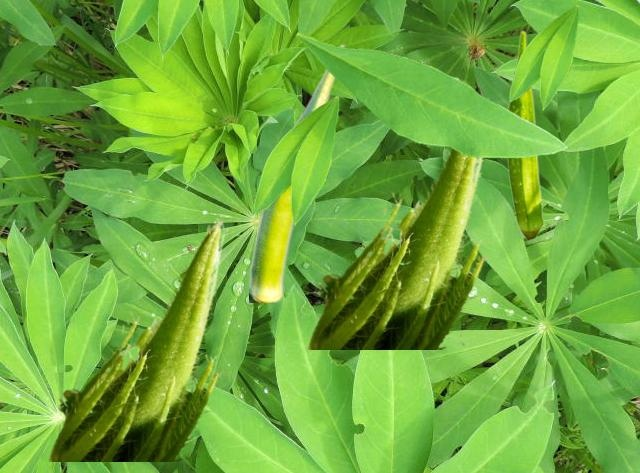okra: (305, 95, 494, 348), (46, 217, 228, 460), (249, 43, 344, 301), (507, 30, 543, 240)
